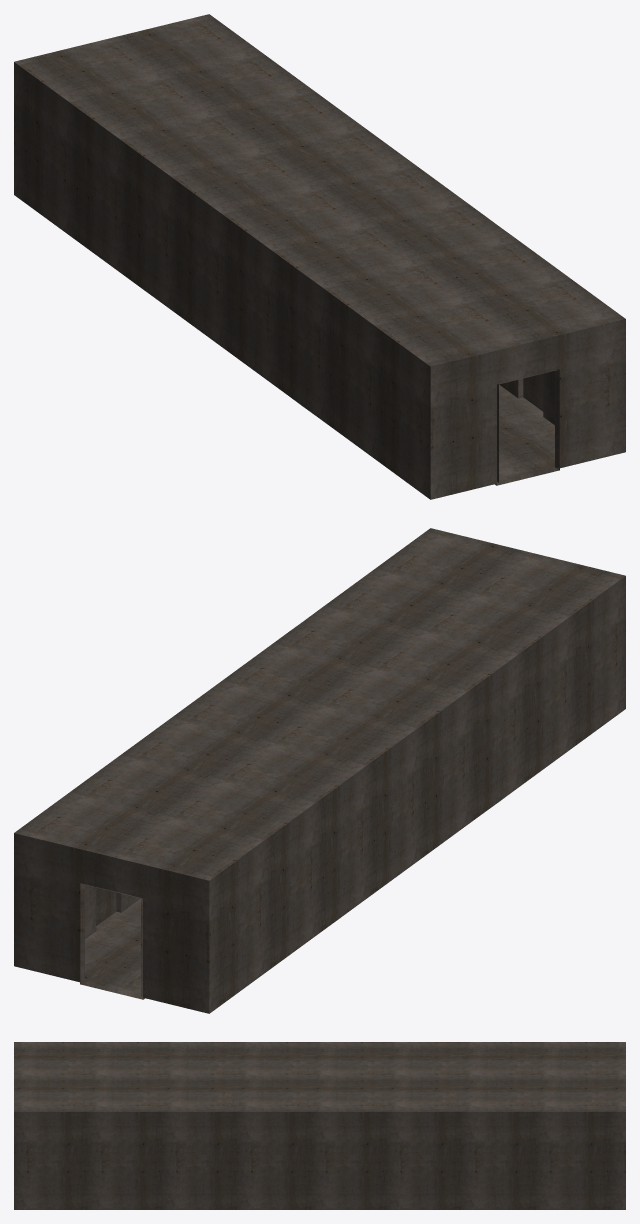
The model's file is HallwayShort_DoorType_A.glb.
The picture shows the model from 3 angles, top to bottom: view 1: azimuth 30°, elevation 25°; view 2: azimuth 150°, elevation 25°; view 3: azimuth 270°, elevation 25°; orthographic projection. The views are drawn at different scales.
Parts seen in each view (by area): view 1: geo_0; view 2: geo_0; view 3: geo_0.
Part boxes in pixels (box(x1,y1,x2,y2)): geo_0: box(14, 14, 625, 499); geo_0: box(14, 528, 625, 1013); geo_0: box(14, 1042, 625, 1209).
Bounding box in the file's own units: 15.4 × 10.19 × 56.89.
2 materials, 2 textured.
